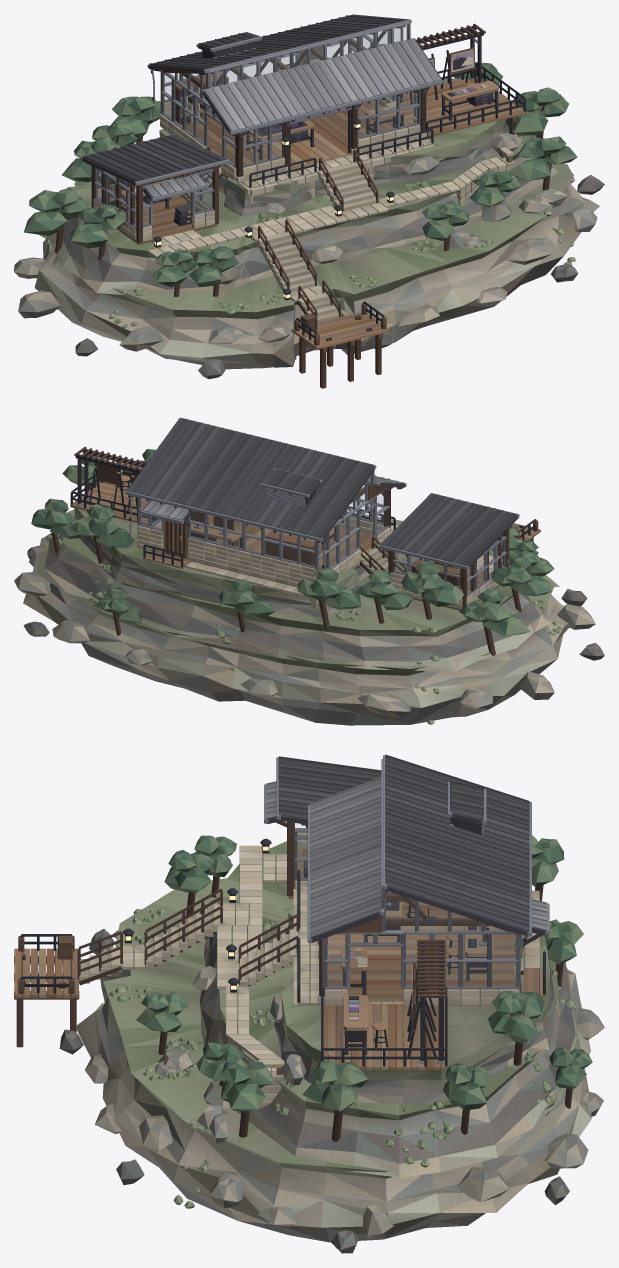
File: tool4furry.glb
The picture shows the model from 3 angles, top to bottom: view 1: azimuth 30°, elevation 25°; view 2: azimuth 150°, elevation 25°; view 3: azimuth 270°, elevation 25°; orthographic projection. The views are drawn at different scales.
Parts seen in each view (by area): view 1: Tool4Furry — The Makers’ Studio; view 2: Tool4Furry — The Makers’ Studio; view 3: Tool4Furry — The Makers’ Studio.
Boxes of the visible parts, x1,y1,x2,y2 form: Tool4Furry — The Makers’ Studio: [14, 14, 604, 388]; Tool4Furry — The Makers’ Studio: [14, 417, 604, 725]; Tool4Furry — The Makers’ Studio: [14, 754, 604, 1253].
Size of the model in its own units: 27.21 by 10.49 by 18.86.
4 materials, 1 textured.
